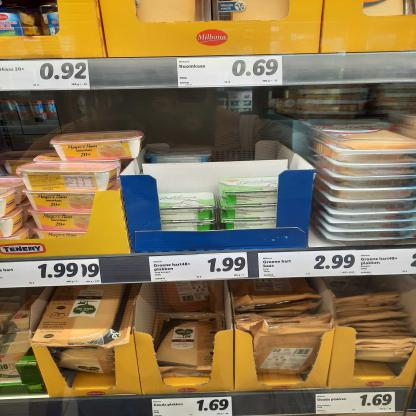prtg: (178, 56, 284, 89), (150, 253, 250, 283), (259, 250, 357, 279), (1, 61, 91, 92), (1, 261, 85, 289), (317, 392, 396, 415), (357, 249, 416, 277), (153, 397, 234, 416), (82, 260, 103, 286)
